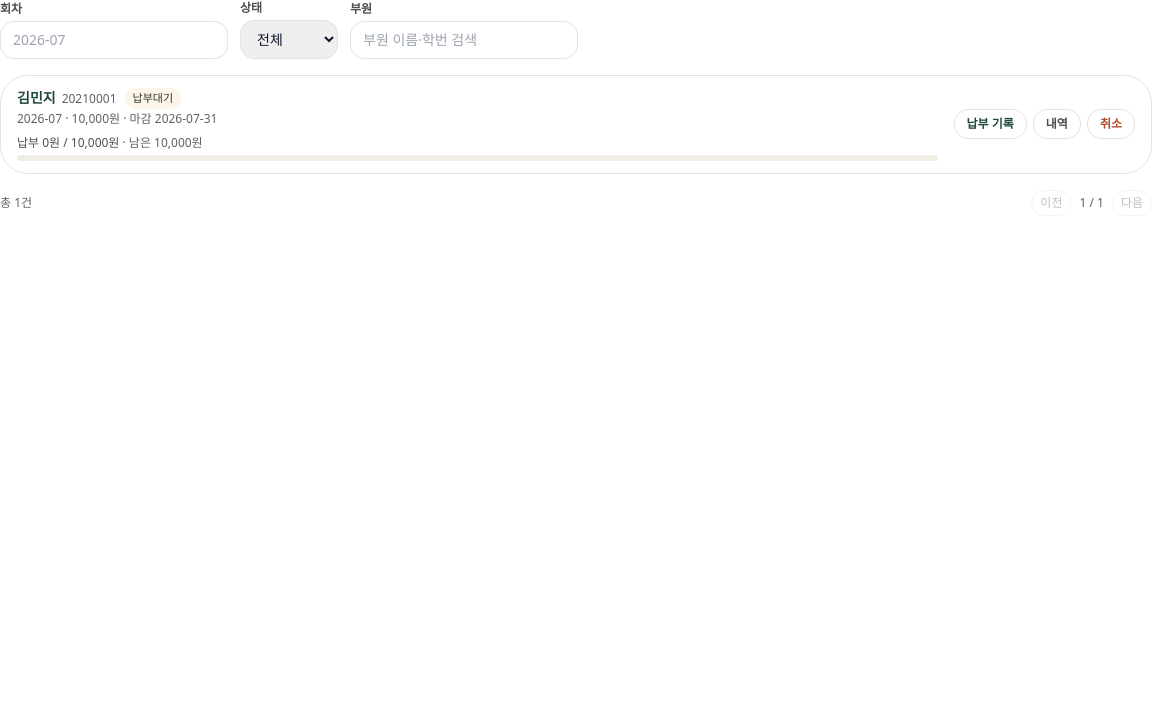
Scenario: BillList › 납부 기록 버튼을 누르면 납부 기록 다이얼로그를 연다
The image size is (1152, 720).
Click the button "납부 기록" at (990,124), box top-left (954, 109), bottom-right (1027, 139)
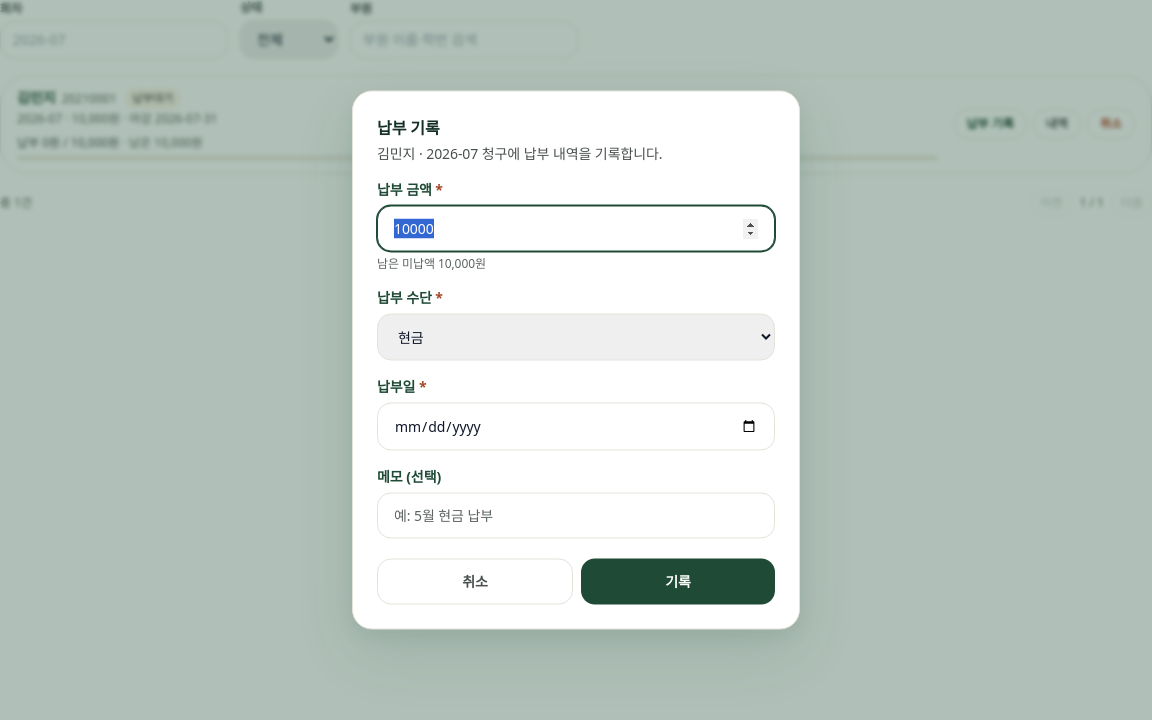
expect the heading "납부 기록" is shown: met, box top-left (377, 116), bottom-right (440, 138)
expect the number field labelled "납부 금액 *" is shown: met, box top-left (377, 206), bottom-right (775, 252)
